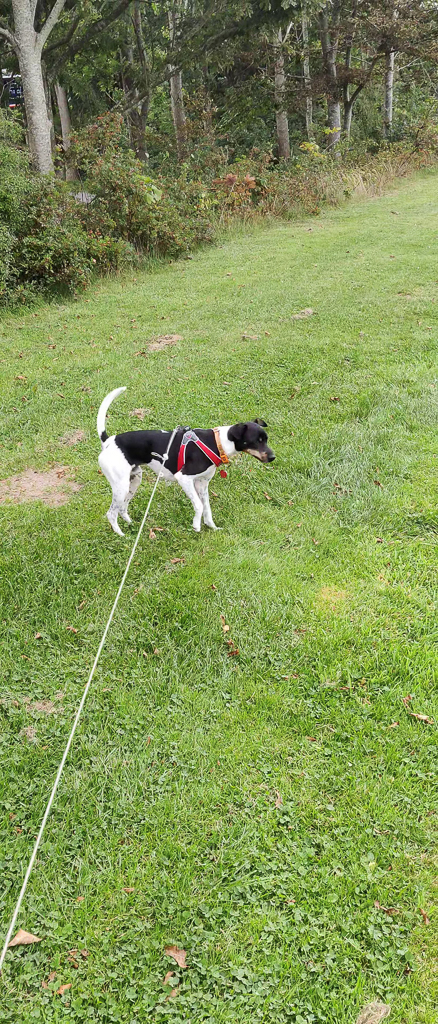Dog: (77, 379, 290, 541)
